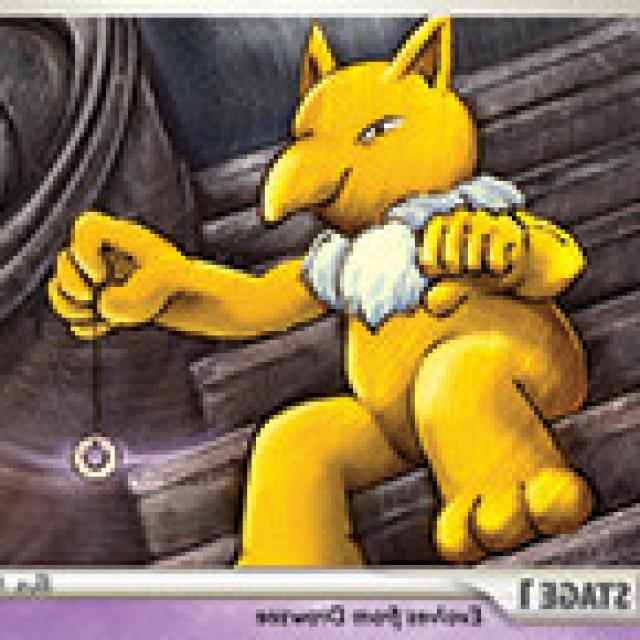Hypno: (209, 12, 604, 574)
